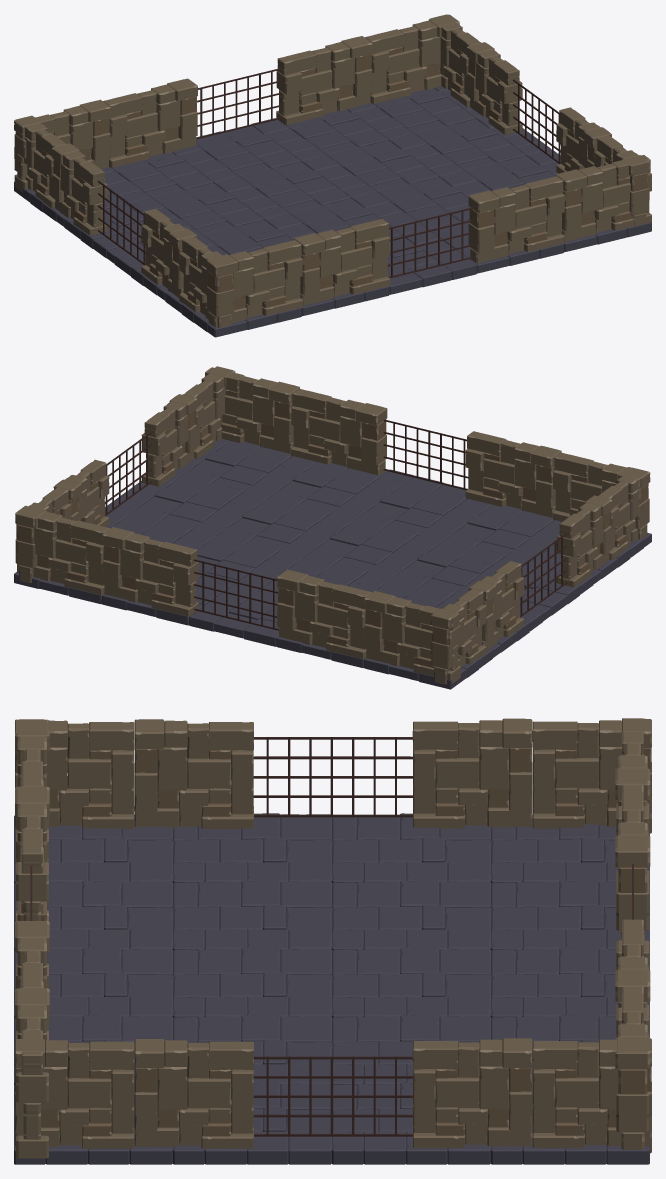
The model's file is room3.glb.
3 views of the same model, one above another, from view 1: azimuth 30°, elevation 25°; view 2: azimuth 150°, elevation 25°; view 3: azimuth 270°, elevation 25° (orthographic). The views are drawn at different scales.
Parts seen in each view (by area): view 1: Floor_Modular_Cube.003; view 2: Floor_Modular_Cube.003; view 3: Floor_Modular_Cube.003.
Part boxes in pixels (left/top/right/bottom): Floor_Modular_Cube.003: left=14, top=14, right=651, bottom=337; Floor_Modular_Cube.003: left=14, top=366, right=651, bottom=689; Floor_Modular_Cube.003: left=14, top=718, right=651, bottom=1164.
Bounding box in the file's own units: 10.05 × 1.57 × 8.03.
